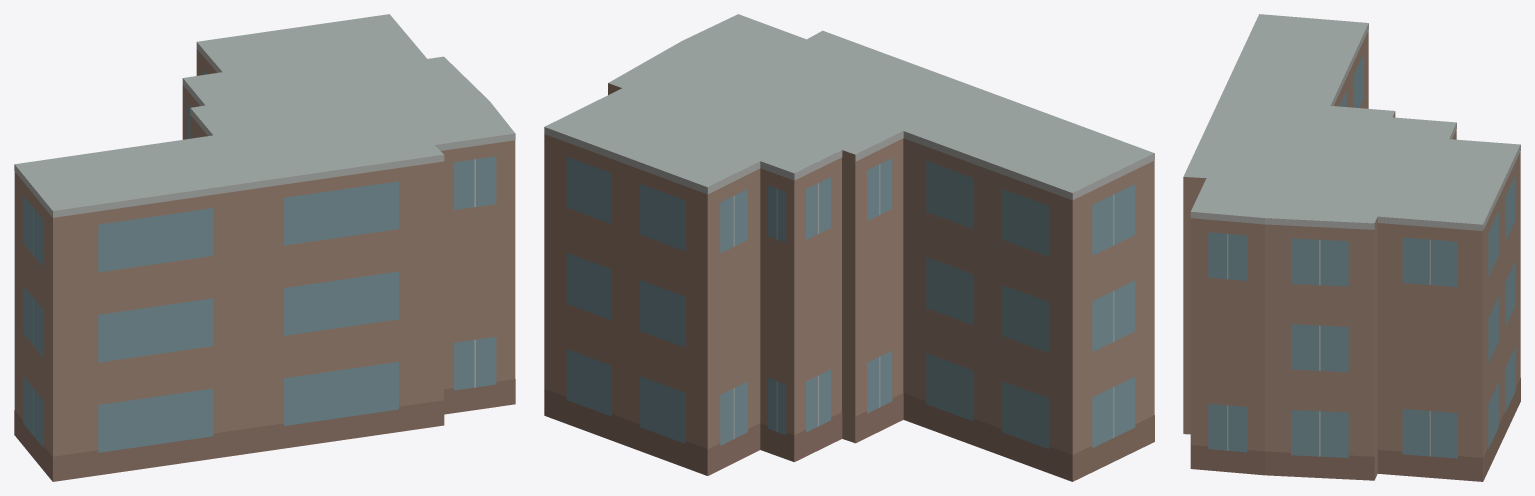
Rendered from survey-upis-32672521.glb.
3 views of the same model, side by side, from view 1: azimuth 30°, elevation 25°; view 2: azimuth 150°, elevation 25°; view 3: azimuth 270°, elevation 25° (orthographic). The views are drawn at different scales.
Parts seen in each view (by area): view 1: survey-upis-32672521.tmp; view 2: survey-upis-32672521.tmp; view 3: survey-upis-32672521.tmp.
Part boxes in pixels (box(x1,y1,x2,y2)): survey-upis-32672521.tmp: box(14, 14, 515, 481); survey-upis-32672521.tmp: box(544, 14, 1154, 481); survey-upis-32672521.tmp: box(1183, 14, 1520, 481).
Bounding box in the file's own units: 17.3 × 9.84 × 11.71.
